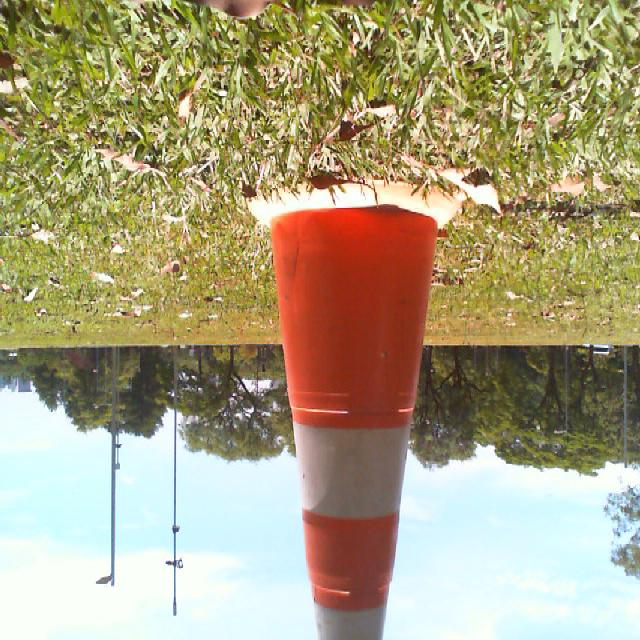cone: (246, 180, 464, 640)
